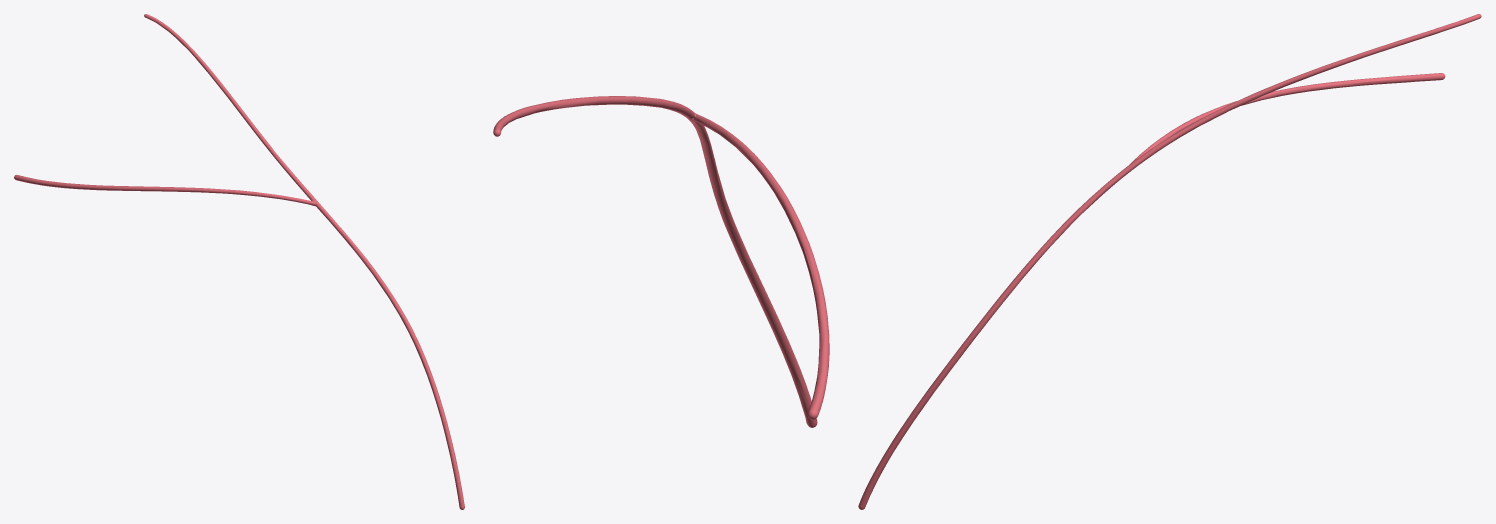
The model's file is fma50900_fj5013.glb.
The picture shows the model from 3 angles, left to right: view 1: azimuth 30°, elevation 25°; view 2: azimuth 150°, elevation 25°; view 3: azimuth 270°, elevation 25°; orthographic projection. The views are drawn at different scales.
Parts seen in each view (by area): view 1: FMA50900_FJ5013; view 2: FMA50900_FJ5013; view 3: FMA50900_FJ5013.
Boxes of the visible parts, <box> form: FMA50900_FJ5013: <box>14,14,464,509</box>; FMA50900_FJ5013: <box>493,96,829,427</box>; FMA50900_FJ5013: <box>858,14,1481,509</box>.
Size of the model in its own units: 0.0333 by 0.0473 by 0.0601.
